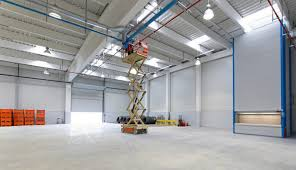Scissor Lift: (120, 41, 150, 136)
